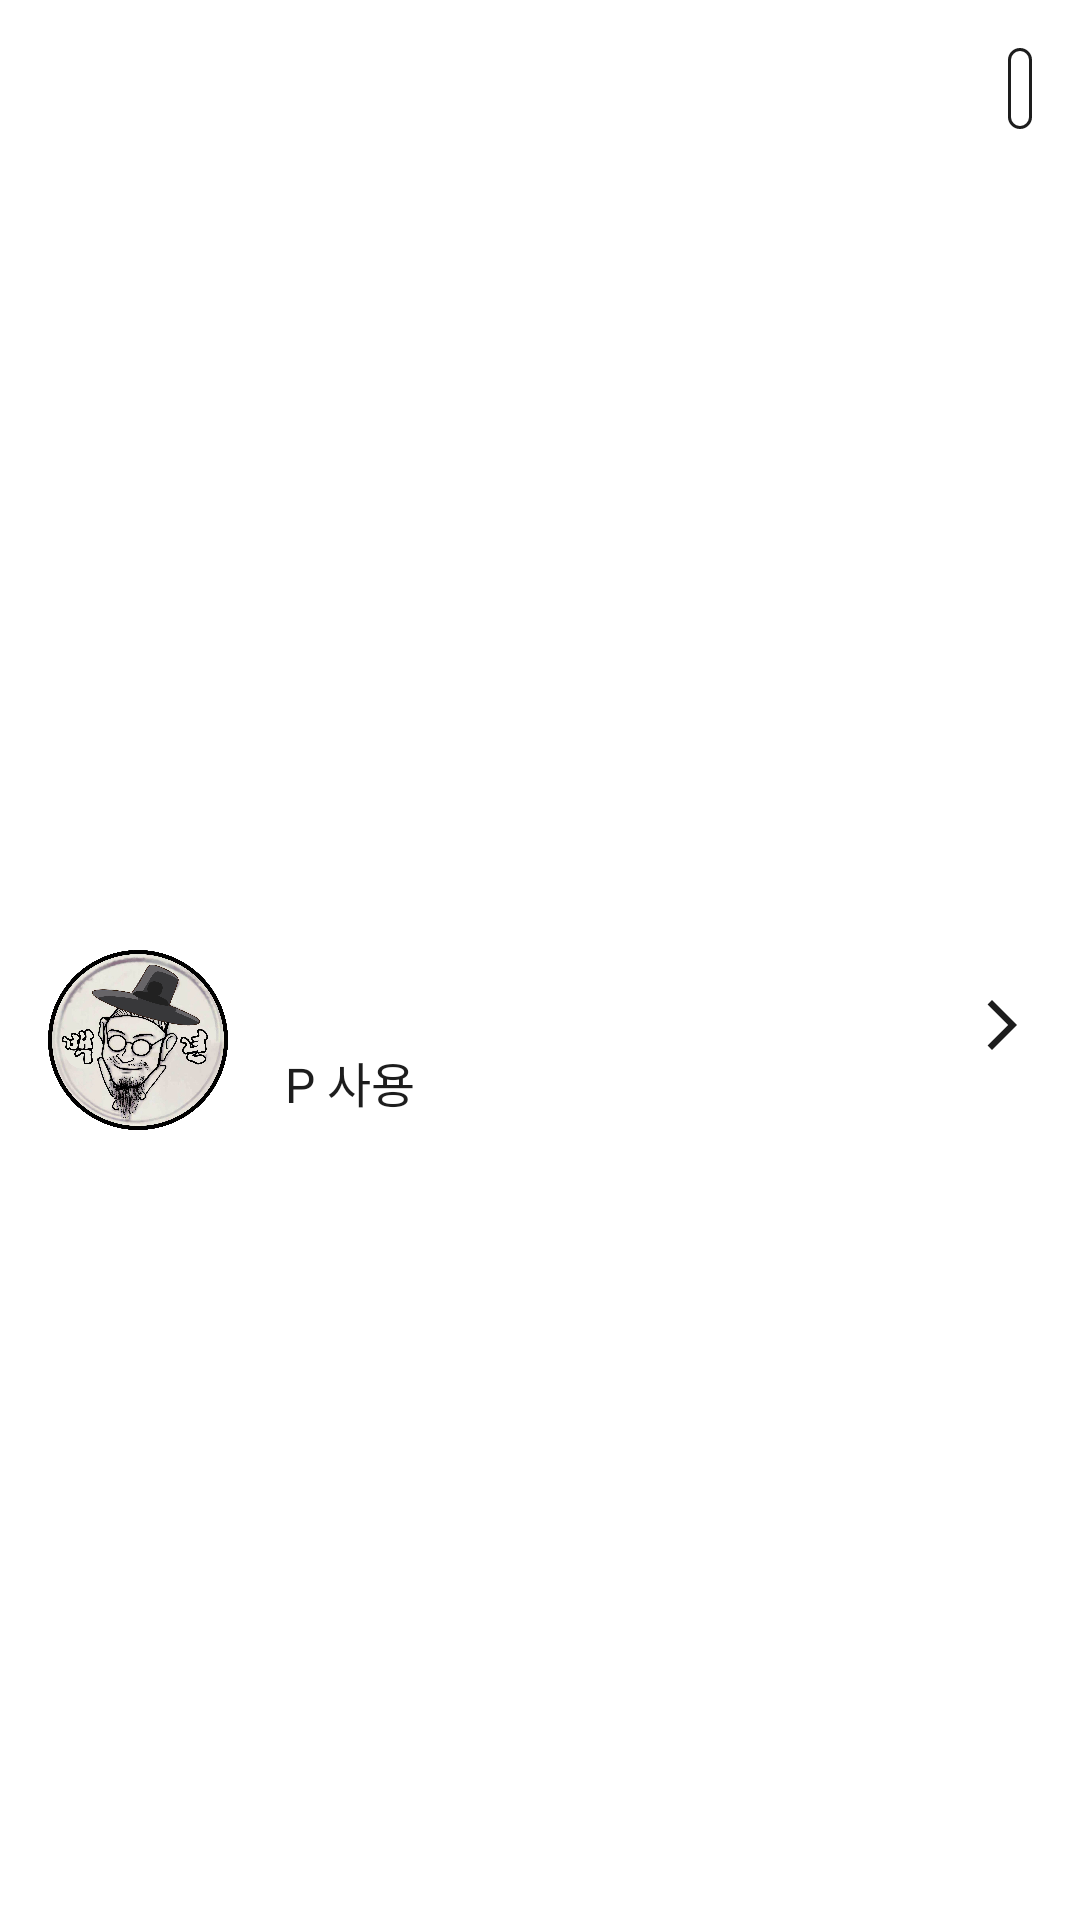

Icon bounding boxes for this 1080 x 1920 phone screenshot, format (x1, y1, x2, y2):
arrow right: (987, 1000, 1017, 1050)
